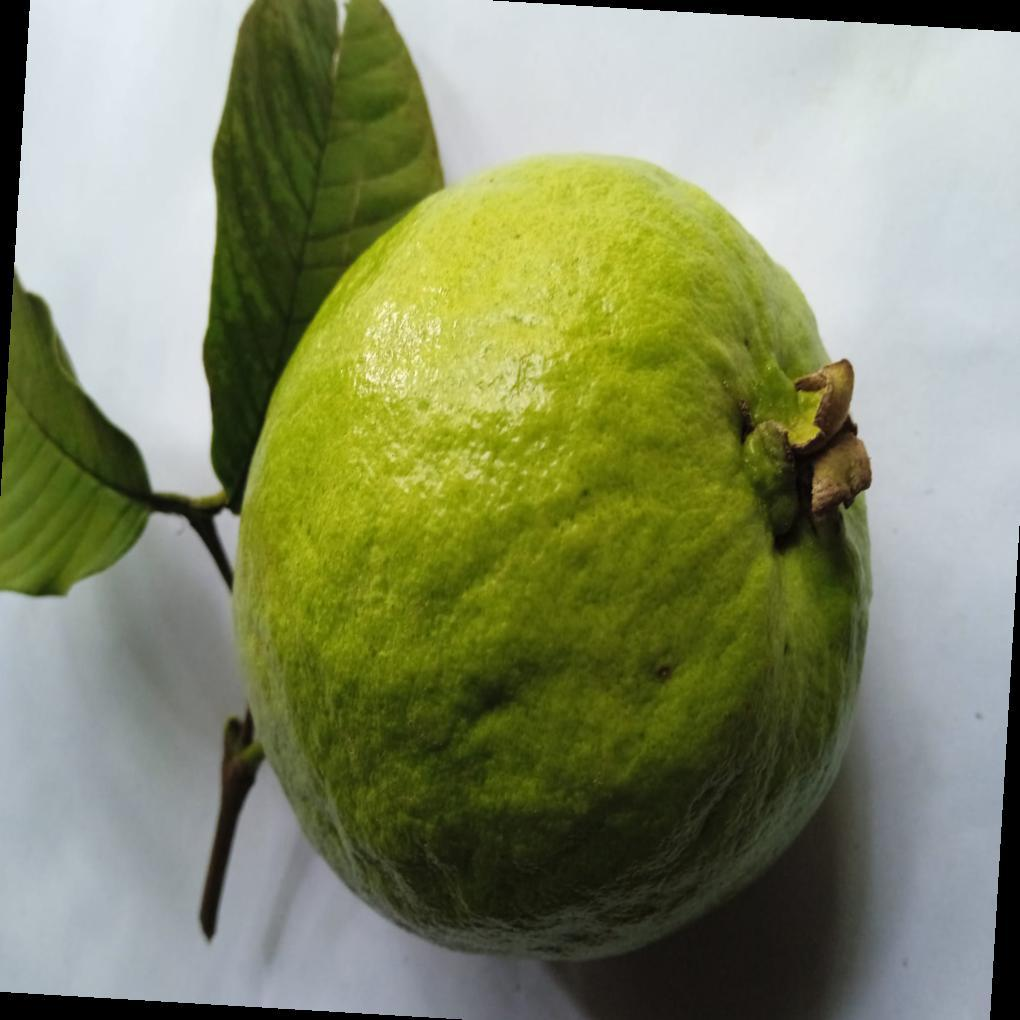FreshGuava: (228, 152, 874, 970)
